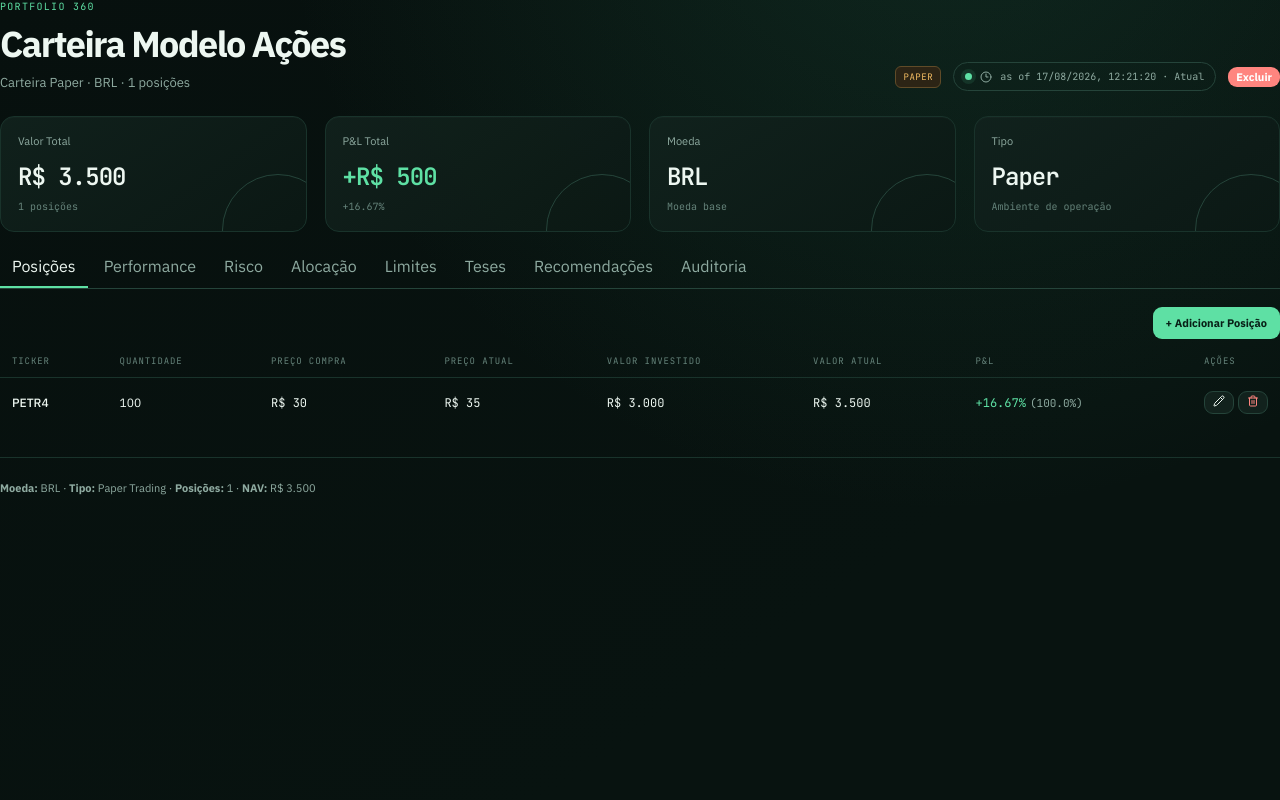
it: Portfolio 360 page › opens the delete confirmation
Click the button "Excluir": (1254, 76) [1228,66,1279,86]
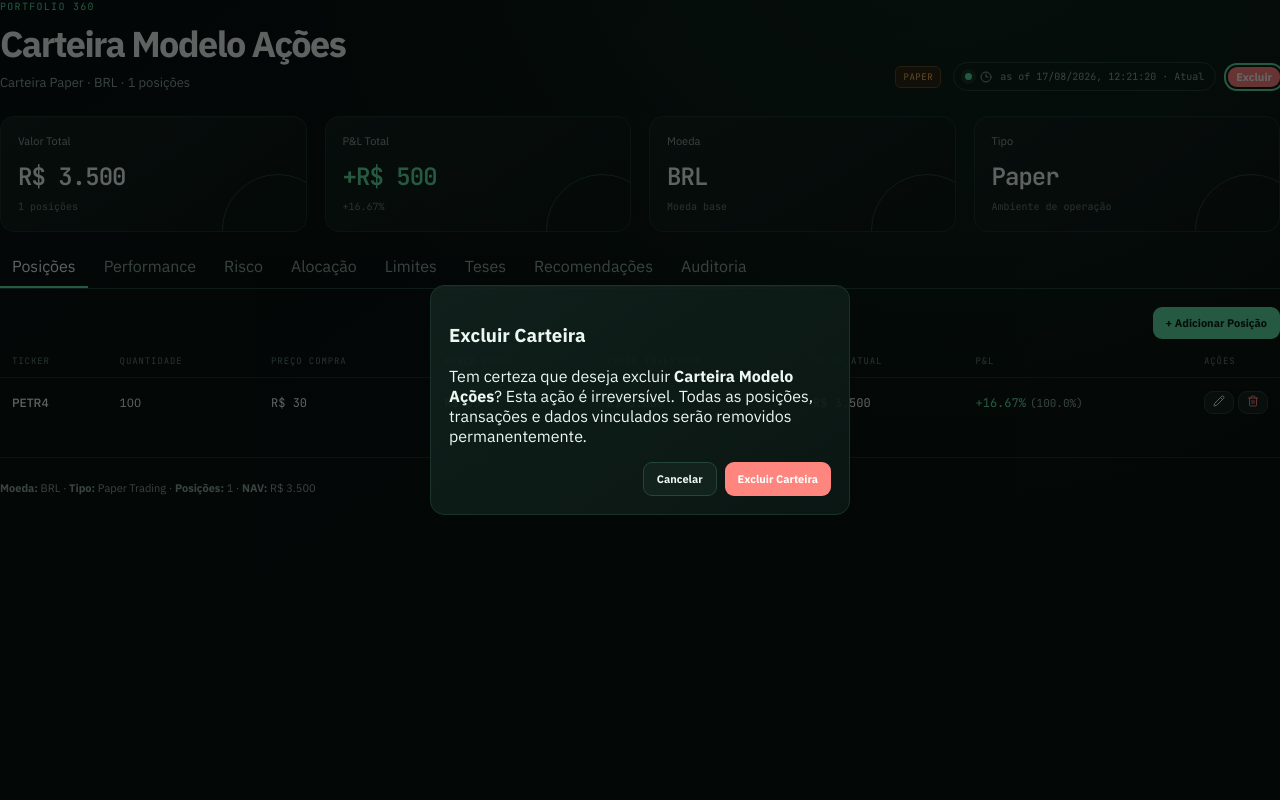
Now the text "Tem certeza" is shown, box [449,366,674,386]
